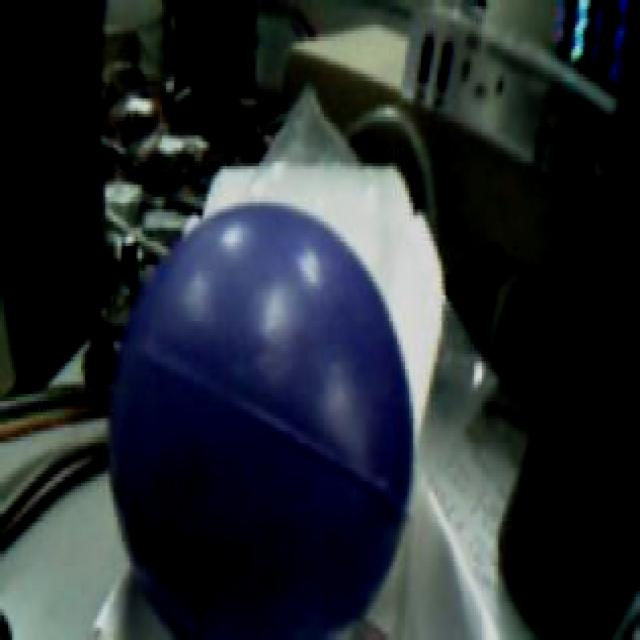BallPurple: (107, 201, 413, 640)
